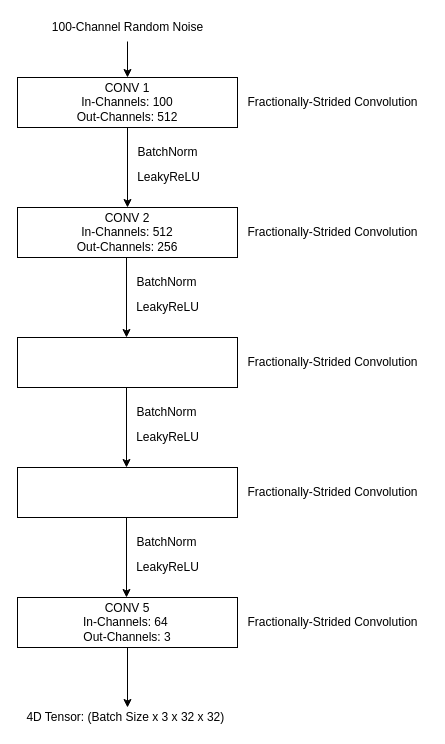
Some shapes in this 445 by 744 pixel diagram are drawn without their labels. The centre of each missing label's shape, as x and y in pixels:
"CONV 3 In-Channels: 256 Out-Channels: 128" belongs at (x=127, y=362).
"CONV 4 In-Channels: 128 Out-Channels: 64" belongs at (x=127, y=492).
